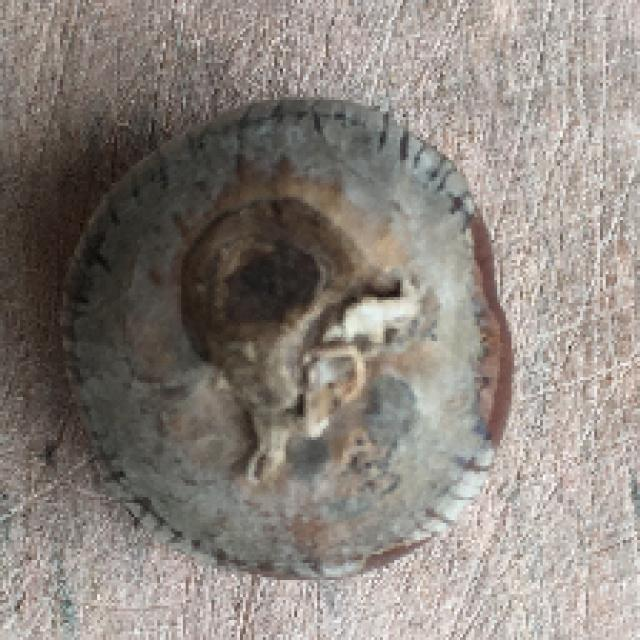DamagedHazelnut: (65, 101, 512, 586)
